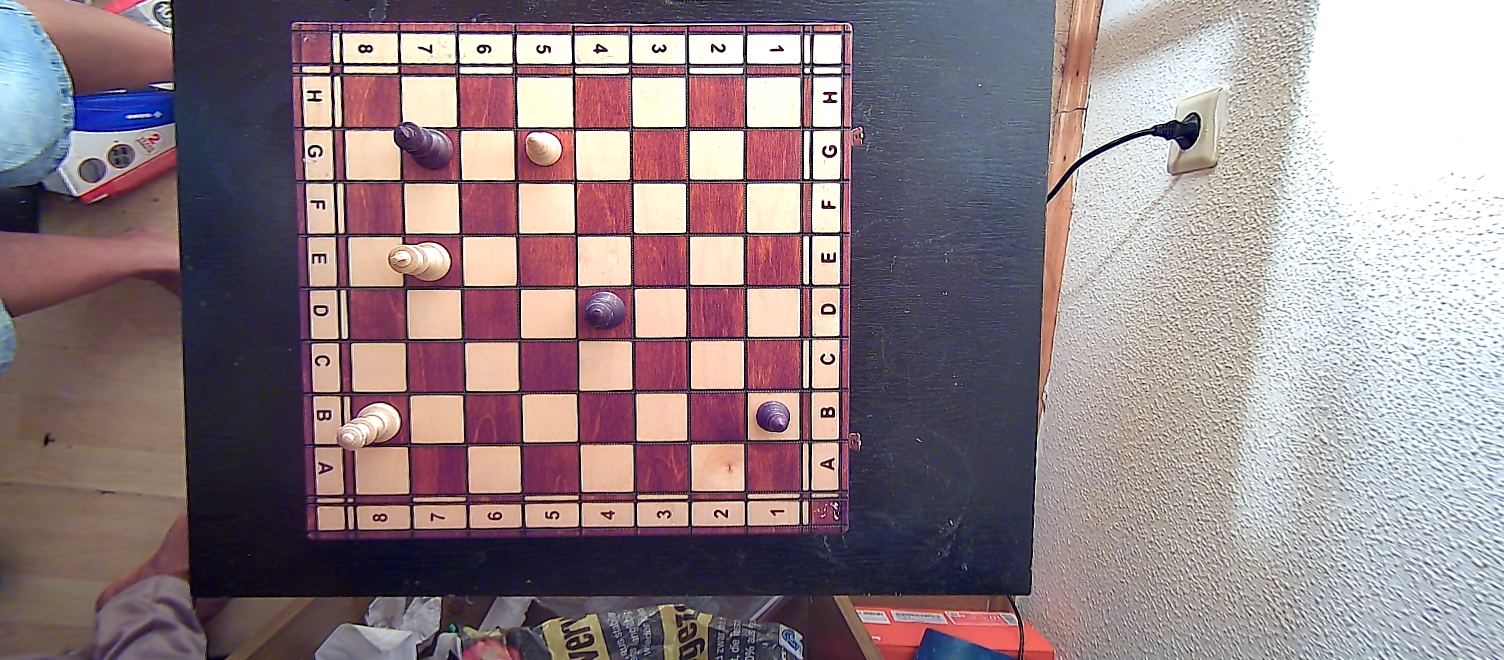black-bishop: (754, 397, 794, 436)
black-king: (391, 119, 456, 174)
black-queen: (581, 290, 627, 333)
white-bishop: (524, 130, 563, 167)
white-king: (385, 236, 453, 284)
white-queen: (335, 400, 402, 452)
